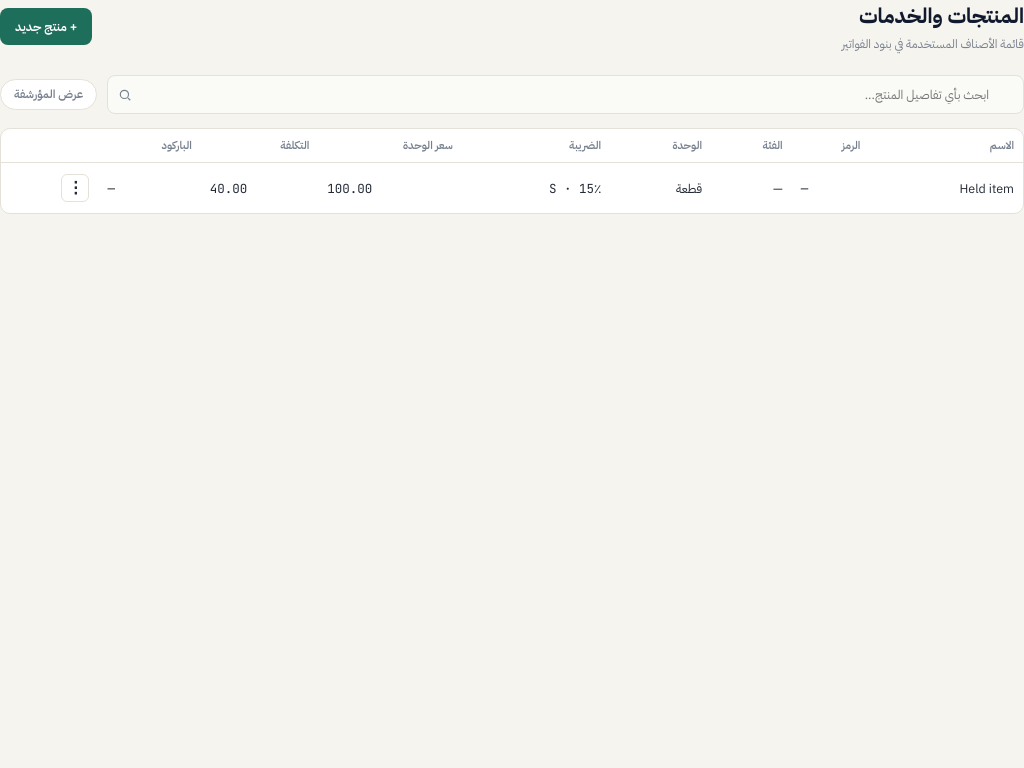
Test case: Deleting a product from the products screen › shows the server refusal in the dialog instead of dropping it
Expected: the text "Held item" is shown, [870,162,1023,213]
Step 1. Click the button titled "خيارات" → x=75, y=188, box [61,174,89,202]
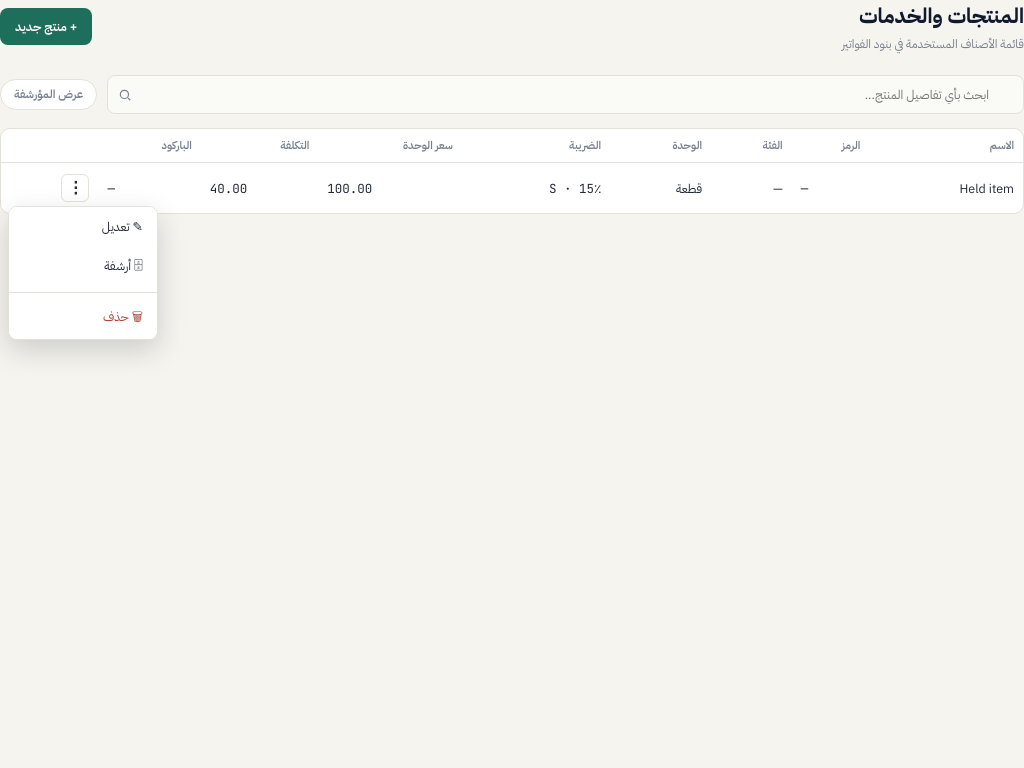
Step 2. Click the button "🗑 حذف" → x=83, y=318, box [9,297,157,339]
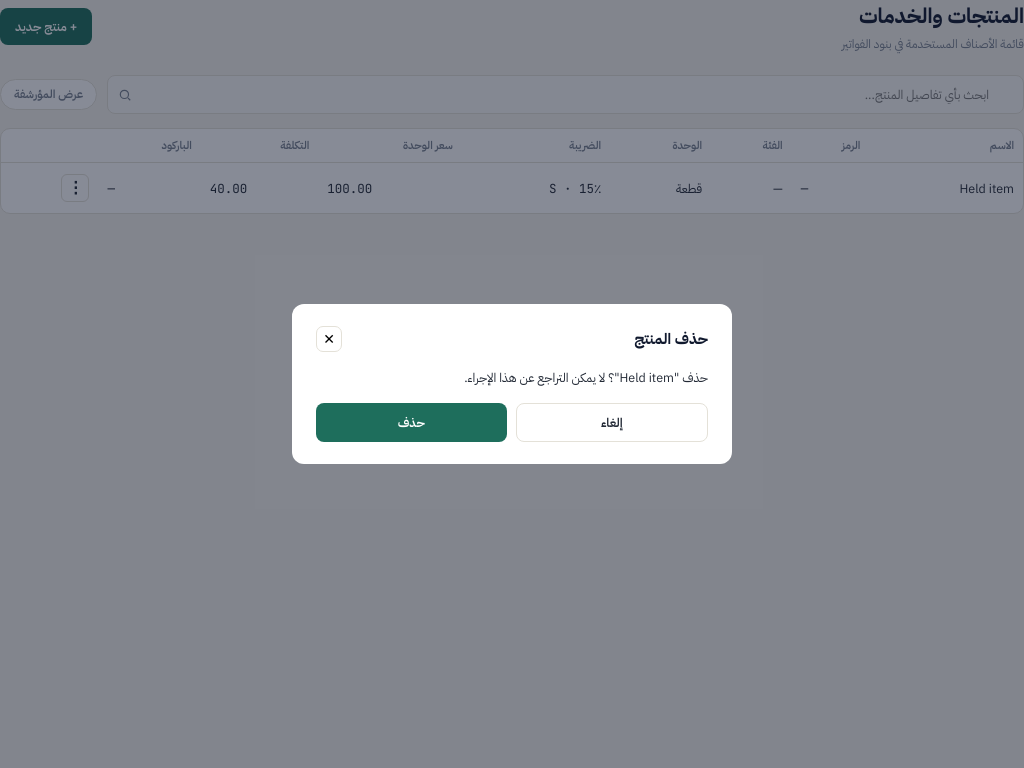
Step 3. Click the button "حذف" → x=411, y=422, box [316,403,506,442]
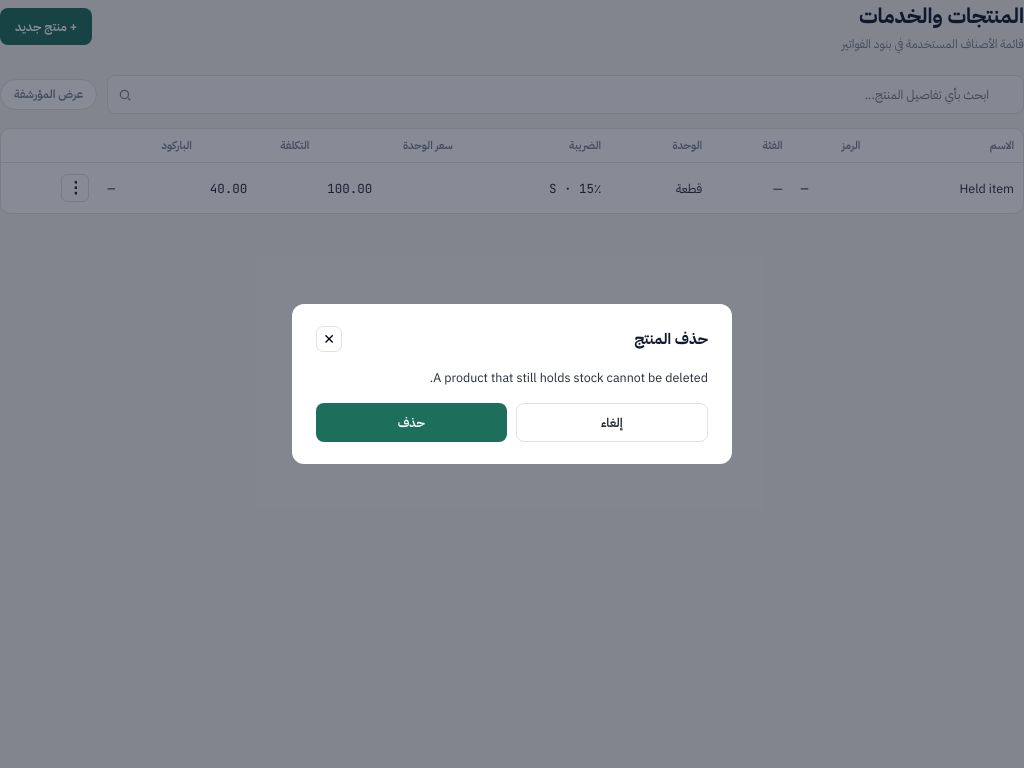
Expected: the text "A product that still holds stock cannot be deleted." is shown, [430,368,708,387]
